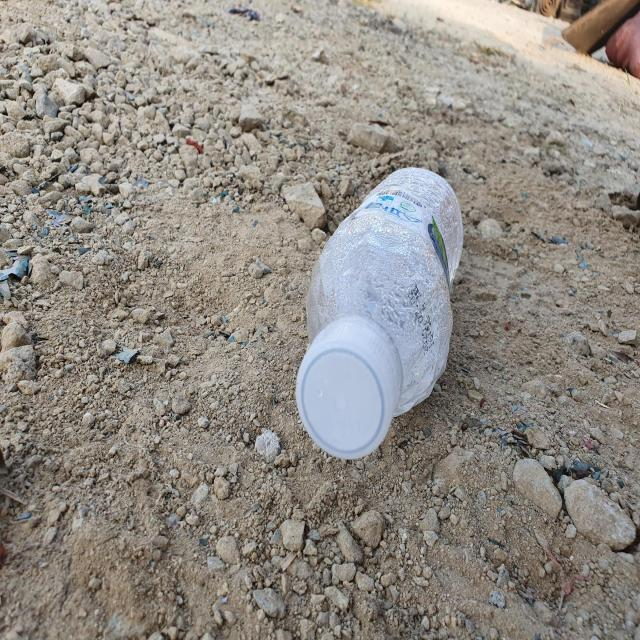plastic: (296, 167, 464, 459)
